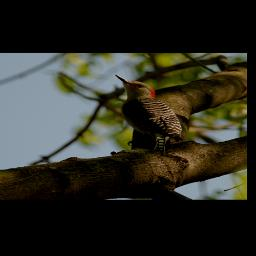Woodpecker: (114, 75, 183, 156)
